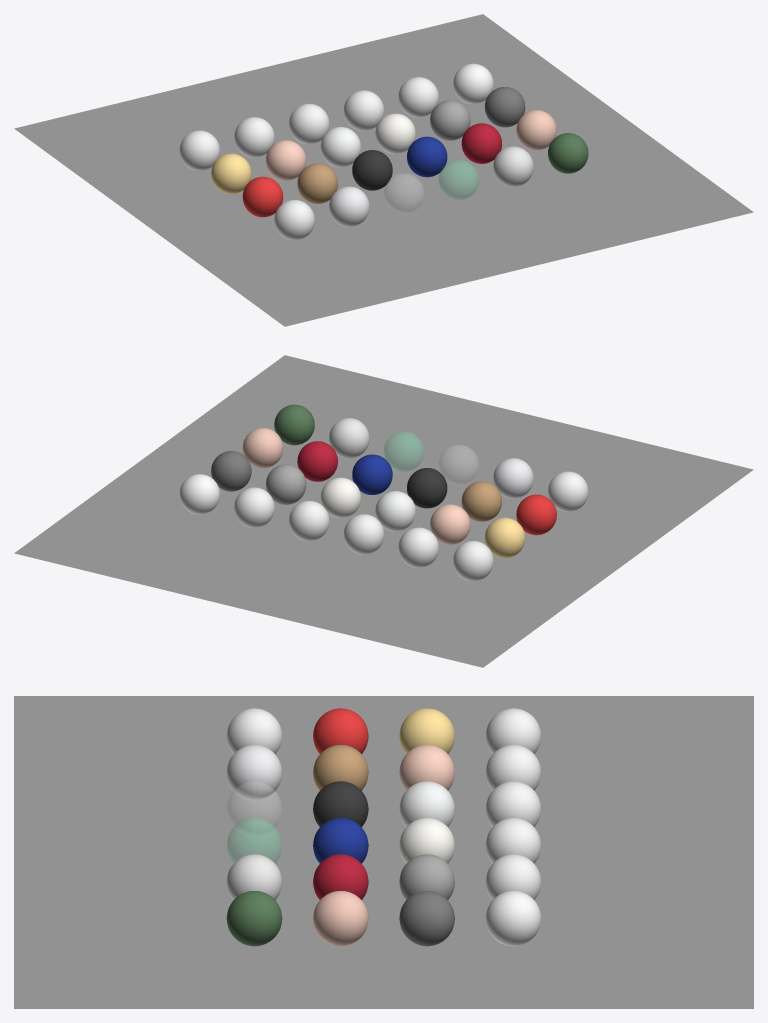
File: material_lab.gltf
3 views of the same model, one above another, from view 1: azimuth 30°, elevation 25°; view 2: azimuth 150°, elevation 25°; view 3: azimuth 270°, elevation 25° (orthographic). The views are drawn at different scales.
Parts seen in each view (by area): view 1: GroundPlane, Sphere_3_0, Sphere_3_4, Sphere_2_3, Sphere_3_5, Sphere_2_2, Sphere_3_1, Sphere_1_4, Sphere_0_5, Sphere_0_3, Sphere_1_1, Sphere_1_3 (+13 smaller); view 2: GroundPlane, Sphere_0_0, Sphere_0_4, Sphere_0_2, Sphere_0_5, Sphere_0_1, Sphere_0_3, Sphere_2_4, Sphere_3_5, Sphere_1_5, Sphere_2_1, Sphere_2_3 (+13 smaller); view 3: GroundPlane, Sphere_0_5, Sphere_3_1, Sphere_3_5, Sphere_1_5, Sphere_2_5, Sphere_3_2, Sphere_0_1, Sphere_0_3, Sphere_1_4, Sphere_2_4, Sphere_1_2 (+13 smaller).
Part boxes in pixels (bbox=[...]): GroundPlane: bbox=[14, 14, 753, 326]; Sphere_3_0: bbox=[274, 200, 314, 240]; Sphere_3_4: bbox=[493, 146, 533, 186]; Sphere_2_3: bbox=[407, 136, 447, 177]; Sphere_3_5: bbox=[548, 133, 588, 173]; Sphere_2_2: bbox=[352, 150, 392, 190]; Sphere_3_1: bbox=[329, 186, 369, 226]; Sphere_1_4: bbox=[430, 100, 470, 140]; Sphere_0_5: bbox=[453, 63, 493, 104]; Sphere_0_3: bbox=[343, 90, 384, 130]; Sphere_1_1: bbox=[266, 140, 306, 180]; Sphere_1_3: bbox=[375, 113, 415, 153]; GroundPlane: bbox=[14, 355, 753, 667]; Sphere_0_0: bbox=[453, 541, 493, 581]; Sphere_0_4: bbox=[234, 487, 274, 527]; Sphere_0_2: bbox=[343, 514, 384, 554]; Sphere_0_5: bbox=[179, 474, 219, 514]; Sphere_0_1: bbox=[398, 527, 438, 567]; Sphere_0_3: bbox=[289, 500, 329, 541]; Sphere_2_4: bbox=[297, 441, 337, 481]; Sphere_3_5: bbox=[274, 404, 314, 445]; Sphere_1_5: bbox=[211, 451, 251, 491]; Sphere_2_1: bbox=[461, 481, 501, 521]; Sphere_2_3: bbox=[352, 454, 392, 494]; GroundPlane: bbox=[14, 696, 753, 1008]; Sphere_0_5: bbox=[485, 891, 541, 946]; Sphere_3_1: bbox=[226, 745, 282, 800]; Sphere_3_5: bbox=[226, 891, 282, 946]; Sphere_1_5: bbox=[399, 891, 454, 946]; Sphere_2_5: bbox=[313, 891, 368, 946]; Sphere_3_2: bbox=[227, 781, 281, 835]; Sphere_0_1: bbox=[485, 745, 541, 790]; Sphere_0_3: bbox=[485, 818, 541, 863]; Sphere_1_4: bbox=[399, 854, 454, 899]; Sphere_2_4: bbox=[313, 854, 368, 899]; Sphere_1_2: bbox=[399, 781, 454, 826].
Bounding box in the file's own units: 12 × 0.9 × 12.
